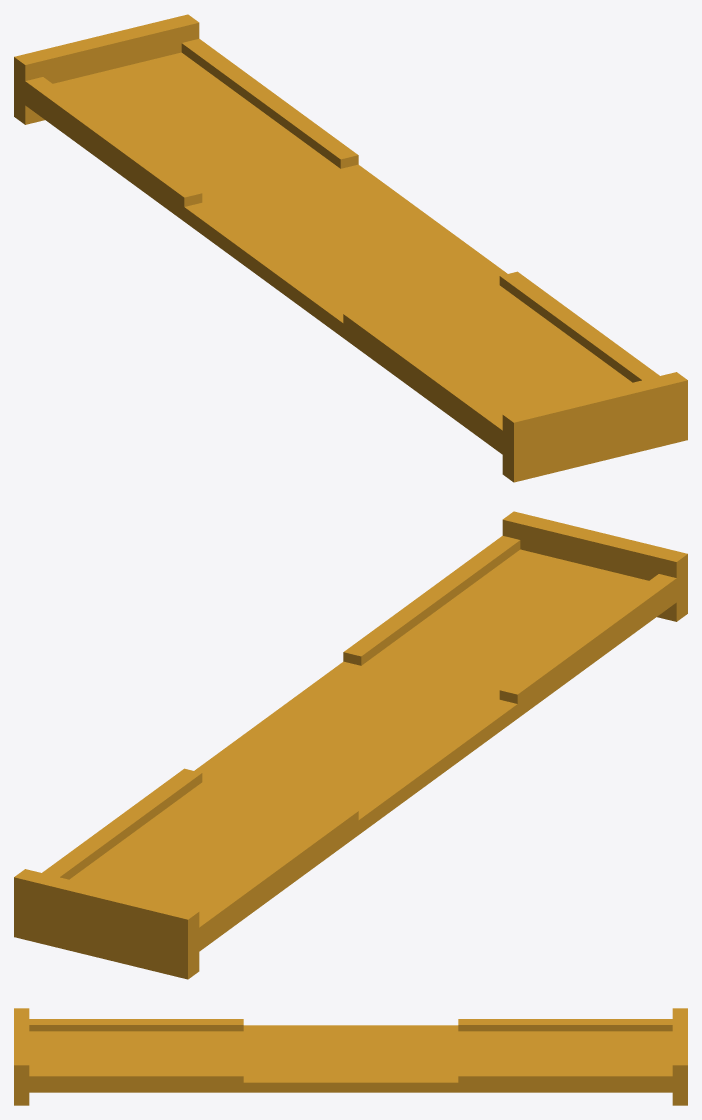
The model's file is arm.glb.
3 renders of one model, top to bottom at view 1: azimuth 30°, elevation 25°; view 2: azimuth 150°, elevation 25°; view 3: azimuth 270°, elevation 25°, orthographic. The views are drawn at different scales.
Parts seen in each view (by area): view 1: arm; view 2: arm; view 3: arm.
Boxes of the visible parts, x1,y1,x2,y2 form: arm: (14, 14, 687, 482); arm: (14, 511, 687, 979); arm: (14, 1008, 687, 1105).
Bounding box in the file's own units: 2.96 × 0.9725 × 14.72.
